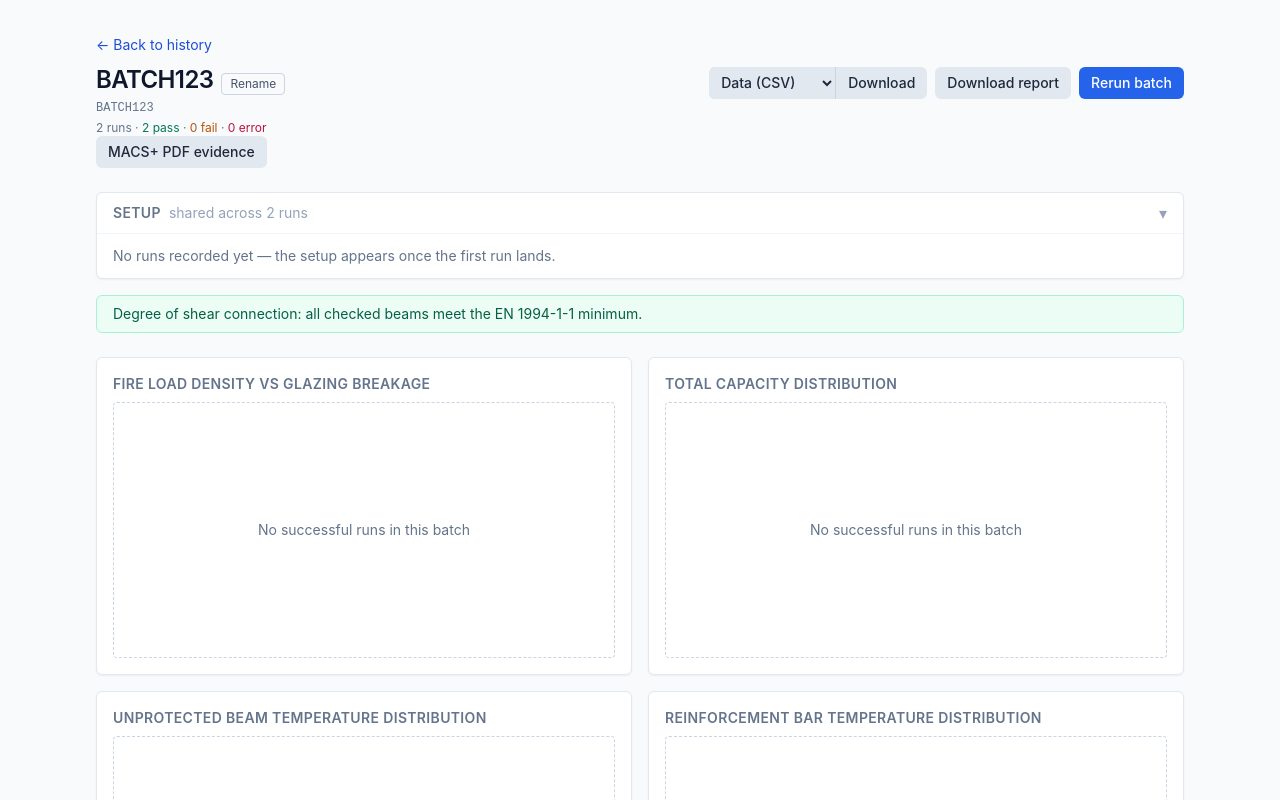
BatchProgressPage — results download › confirms the save, naming the file
Click the button "Download" at coordinates (882, 82), box [836,66,927,98]
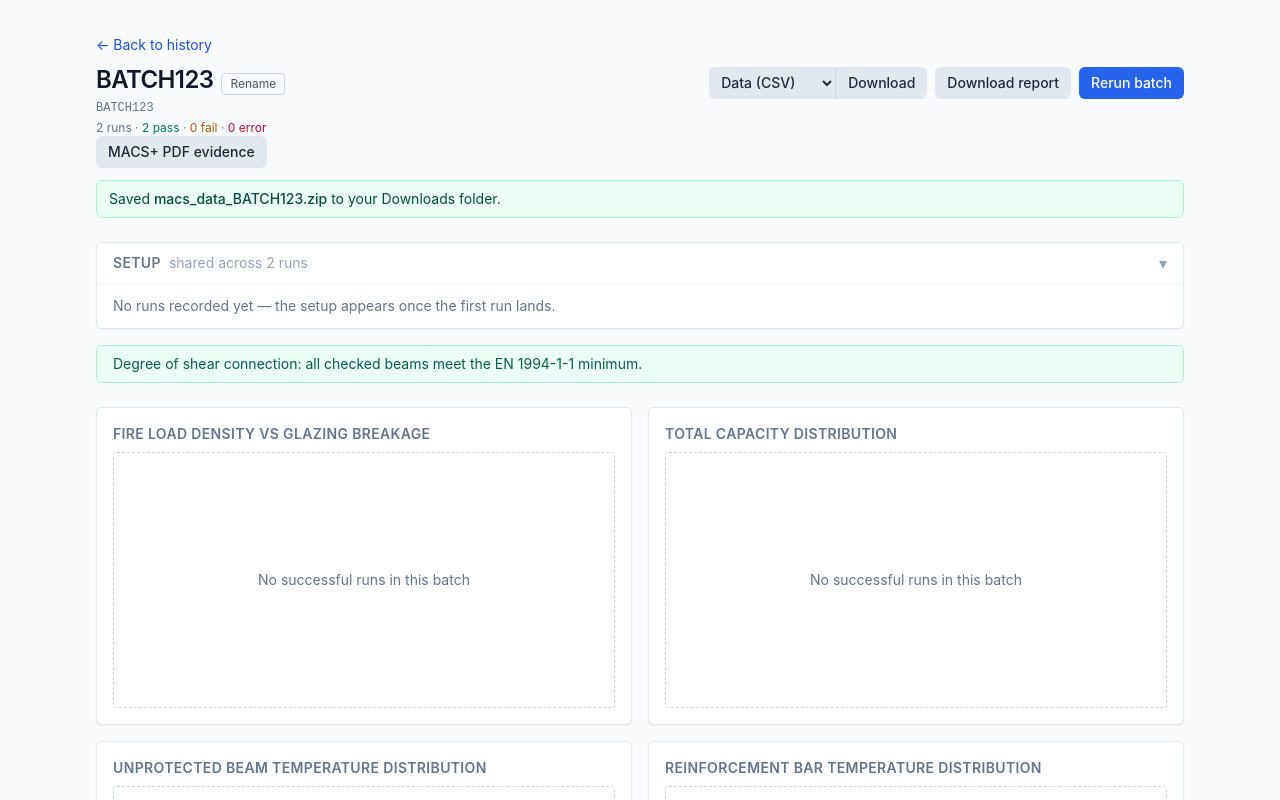
Result: the element with test id "download-saved" shows "macs_data_BATCH123.zip" at [154,190,327,207]
